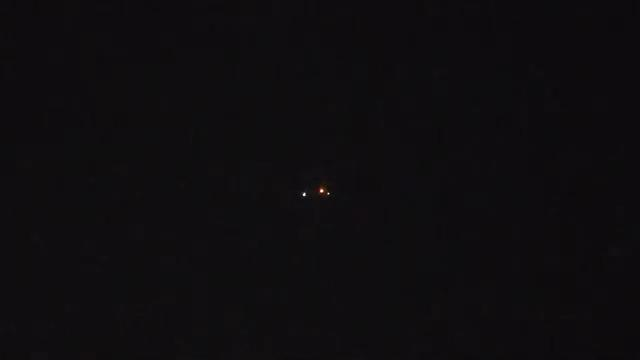Plane: (285, 178, 353, 206)
